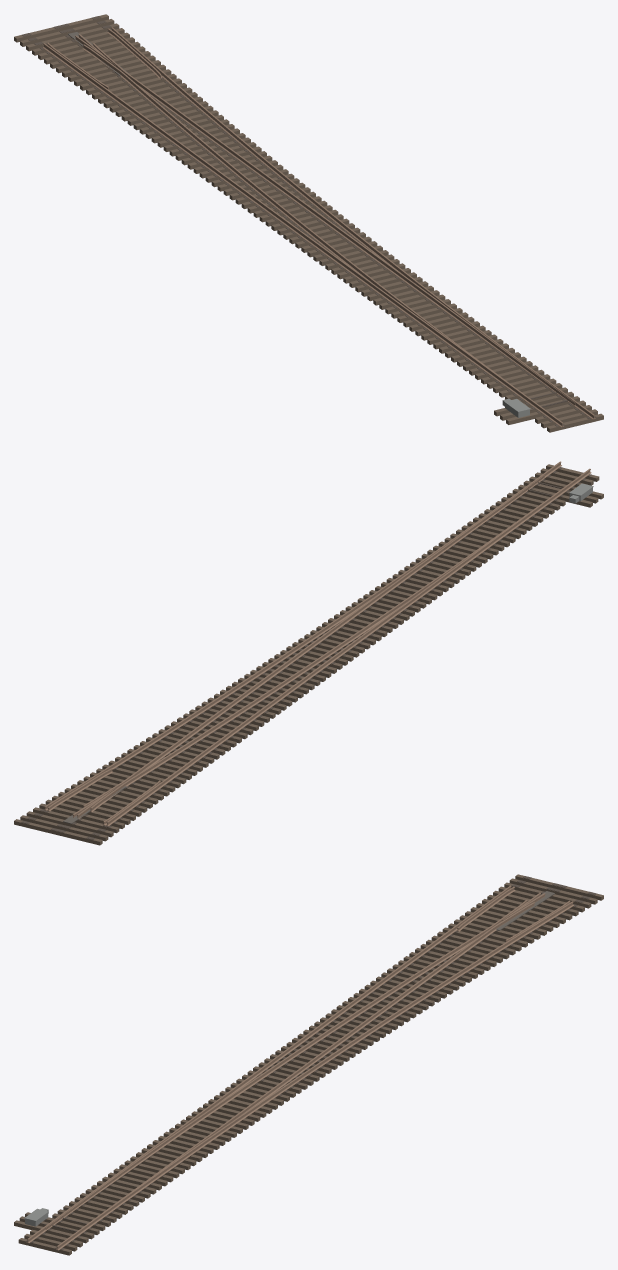
The model's file is turnout_15_r.glb.
3 views of the same model, one above another, from view 1: azimuth 30°, elevation 25°; view 2: azimuth 150°, elevation 25°; view 3: azimuth 330°, elevation 25° (orthographic). The views are drawn at different scales.
Parts seen in each view (by area): view 1: Timbers, Closures, StockStraight, Plates, StockCurved, BladeStraight, Guards; view 2: Timbers, Closures, StockStraight, StockCurved, Plates, BladeStraight, Guards; view 3: Timbers, Closures, StockCurved, StockStraight, Plates, BladeCurved, Guards.
Part boxes in pixels (x1=…): Timbers: x1=14, y1=14, x2=603, y2=432; Closures: x1=82, y1=43, x2=432, y2=305; StockStraight: x1=43, y1=43, x2=563, y2=427; Plates: x1=22, y1=16, x2=595, y2=426; StockCurved: x1=111, y1=27, x2=595, y2=419; BladeStraight: x1=431, y1=297, x2=575, y2=405; Guards: x1=47, y1=28, x2=162, y2=90; Timbers: x1=14, y1=464, x2=603, y2=845; Closures: x1=83, y1=571, x2=437, y2=812; StockStraight: x1=105, y1=468, x2=591, y2=826; StockCurved: x1=44, y1=461, x2=561, y2=810; Plates: x1=21, y1=467, x2=591, y2=839; BladeStraight: x1=410, y1=475, x2=544, y2=575; Guards: x1=47, y1=768, x2=160, y2=825; Timbers: x1=14, y1=874, x2=603, y2=1255; Closures: x1=181, y1=899, x2=534, y2=1137; StockCurved: x1=56, y1=901, x2=573, y2=1250; StockStraight: x1=26, y1=885, x2=511, y2=1243; Plates: x1=26, y1=876, x2=596, y2=1249; BladeCurved: x1=45, y1=1129, x2=181, y2=1230; Guards: x1=456, y1=886, x2=570, y2=942.
Bounding box in the file's own units: 5.51 × 0.4678 × 44.42.
